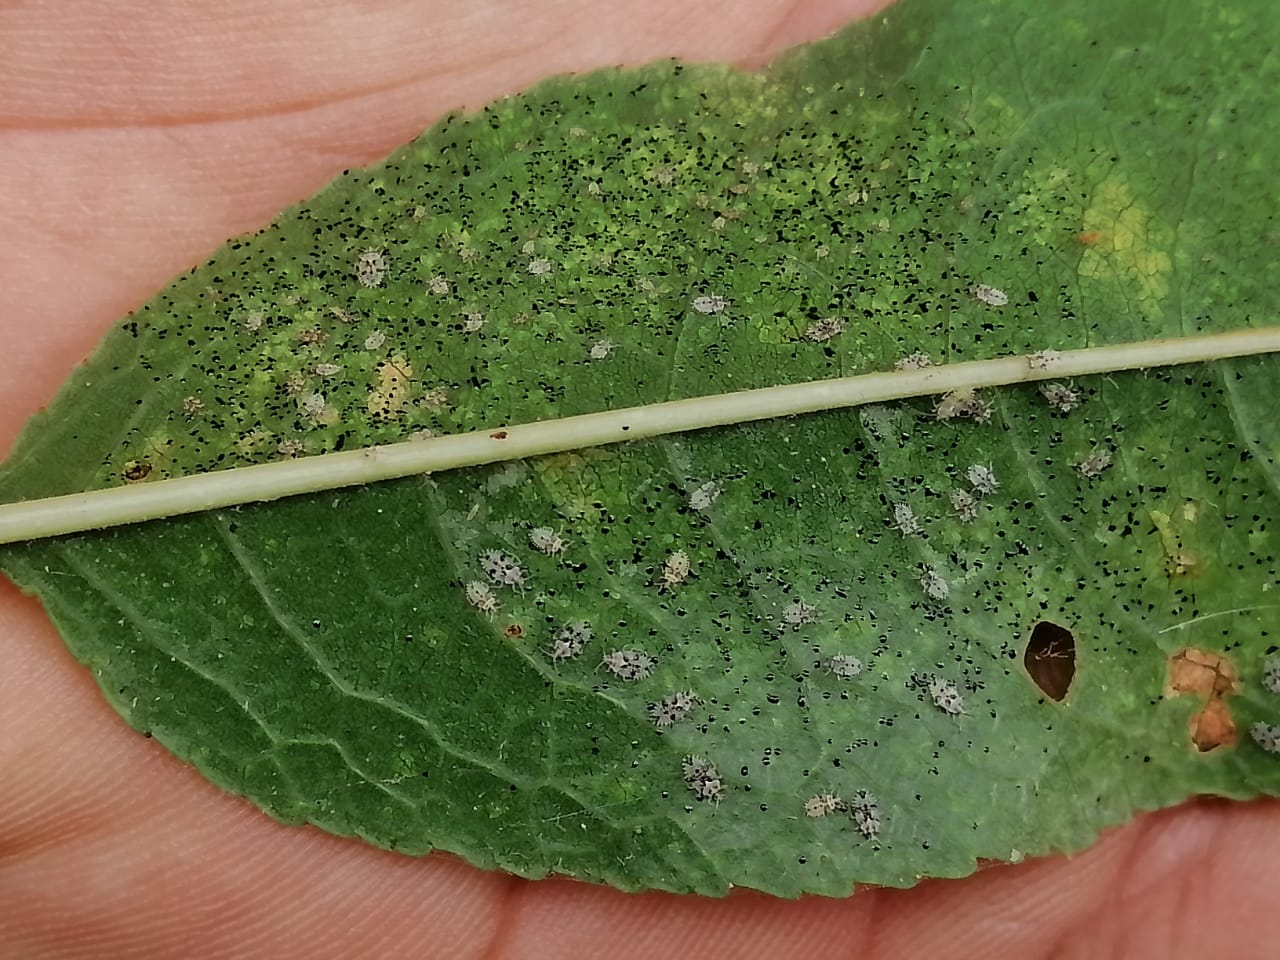faux tigre: (58, 14, 1280, 904)
